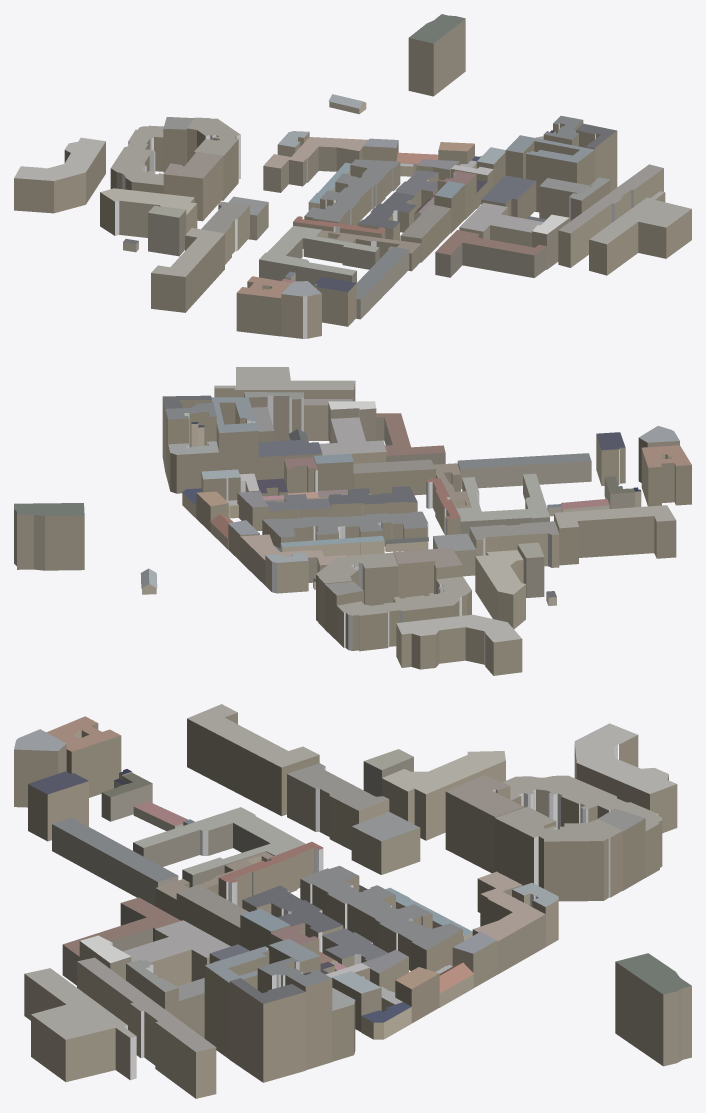
3 renders of one model, top to bottom at view 1: azimuth 30°, elevation 25°; view 2: azimuth 150°, elevation 25°; view 3: azimuth 270°, elevation 25°, orthographic. The views are drawn at different scales.
Visible parts, largest first — view 1: tuile; view 2: tuile; view 3: tuile.
Part boxes in pixels (x1=…): tuile: x1=14, y1=14, x2=691, y2=338; tuile: x1=14, y1=367, x2=691, y2=675; tuile: x1=14, y1=704, x2=691, y2=1098.
Bounding box in the file's own units: 303 × 37.14 × 261.
